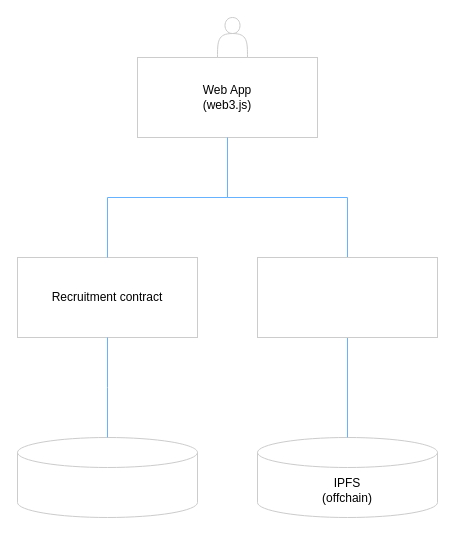
This 455x535 diagram has some shape labels left out. The centre of each missing label's shape, as x and y in pixels:
"Blockchain (onchain)" goes at [107,477].
"User contract" goes at [347,297].
